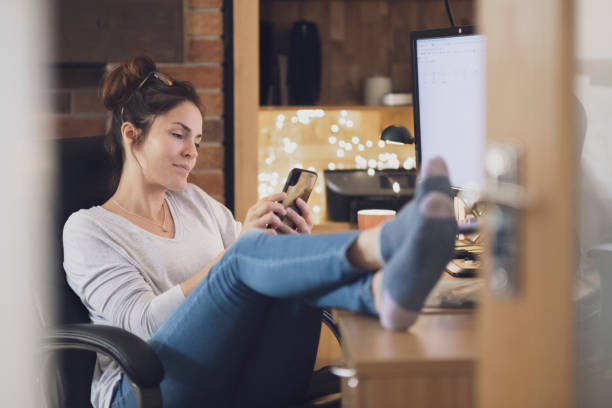without mask: (126, 95, 206, 201)
